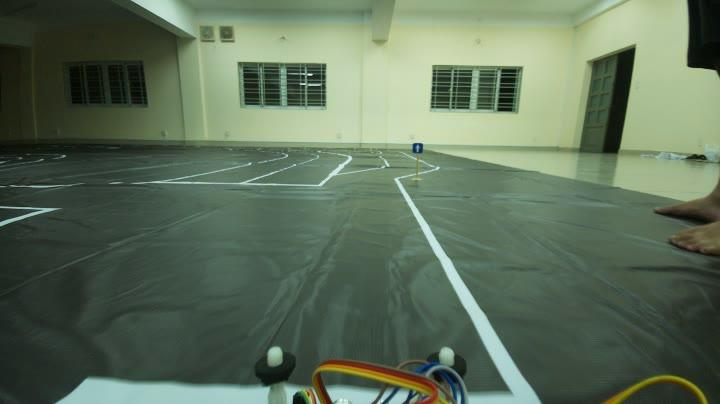onewayroad: (410, 138, 428, 156)
